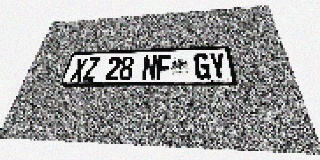2: (104, 56, 122, 81)
8: (118, 56, 135, 81)
F: (156, 54, 171, 80)
G: (194, 53, 211, 80)
N: (141, 55, 157, 80)
X: (69, 58, 88, 81)
Y: (209, 52, 228, 79)
Z: (82, 57, 100, 81)
